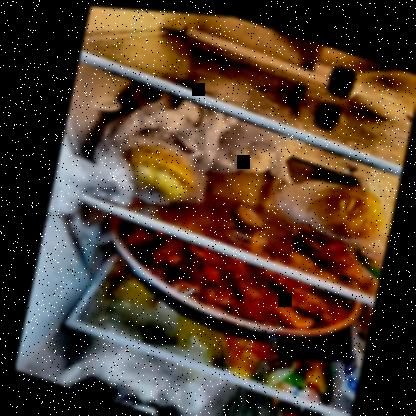lemon: (117, 132, 202, 205), (309, 171, 389, 244)
